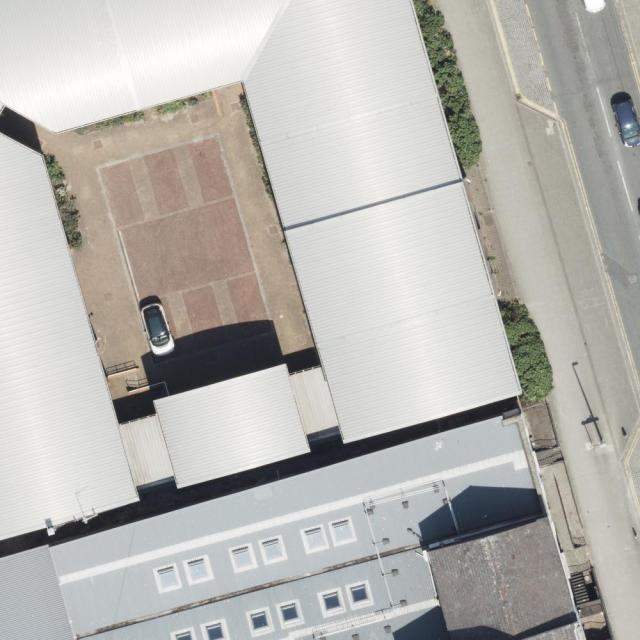roof: (0, 0, 524, 543), (0, 406, 589, 640)
skylight: (244, 602, 275, 636), (230, 542, 258, 572), (259, 536, 287, 565), (303, 525, 329, 553), (155, 562, 179, 592), (330, 518, 356, 545), (278, 599, 303, 626), (349, 580, 373, 608), (319, 589, 344, 614), (185, 562, 209, 581), (205, 622, 223, 639), (172, 630, 194, 640)
